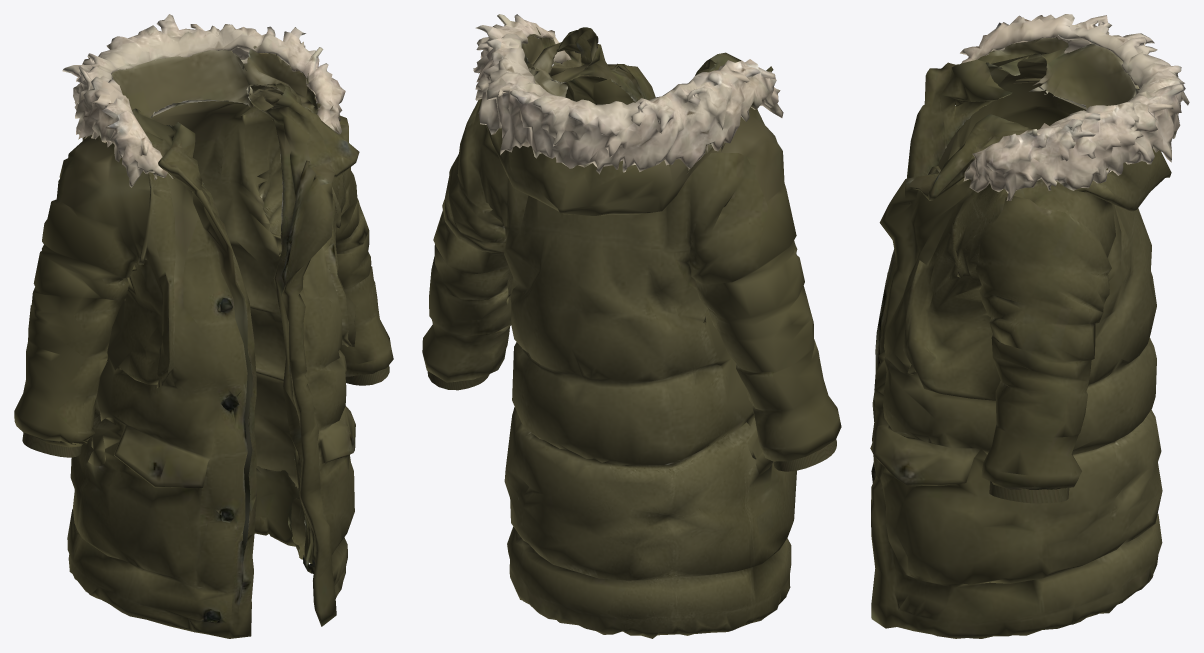
The model's file is Parka.glb.
3 views of the same model, side by side, from view 1: azimuth 30°, elevation 25°; view 2: azimuth 150°, elevation 25°; view 3: azimuth 270°, elevation 25° (orthographic). The views are drawn at different scales.
Parts seen in each view (by area): view 1: Parka; view 2: Parka; view 3: Parka.
Part boxes in pixels (x1=…): Parka: x1=14, y1=14, x2=393, y2=638; Parka: x1=422, y1=14, x2=841, y2=638; Parka: x1=870, y1=14, x2=1189, y2=638.
Size of the model in its own units: 1.3 by 1.75 by 0.9392.
Materials: 1 (1 with a texture image).
